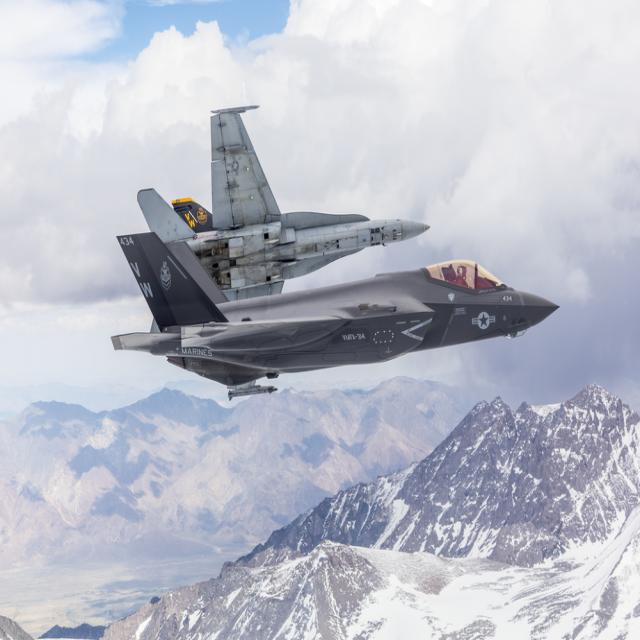MIL_Plane: (136, 105, 431, 402), (110, 231, 560, 387)
